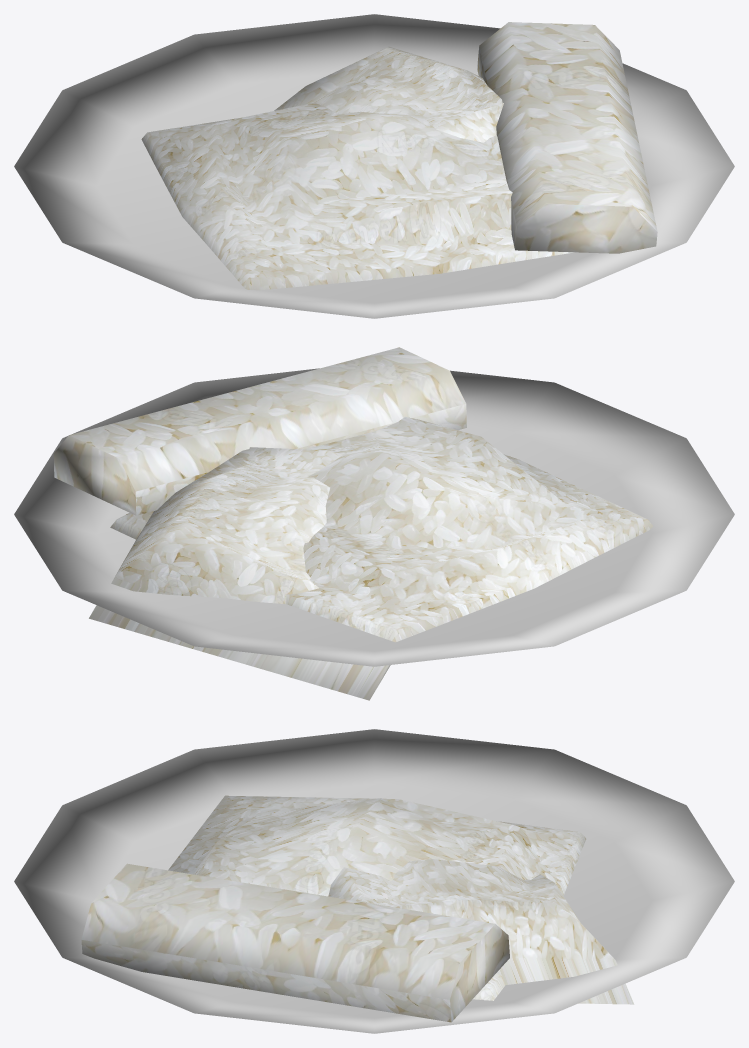
The model's file is SM_PlateFood.fbx.
3 renders of one model, top to bottom at view 1: azimuth 30°, elevation 25°; view 2: azimuth 150°, elevation 25°; view 3: azimuth 270°, elevation 25°, orthographic.
Visible parts, largest first — view 1: plate, FoodClump_Rice, FoodClump_Meat, FoodClump_Beans; view 2: plate, FoodClump_Rice, FoodClump_Meat, FoodClump_Beans; view 3: plate, FoodClump_Meat, FoodClump_Rice, FoodClump_Beans.
Boxes of the visible parts, <box> form: plate: <box>14,14,734,318</box>; FoodClump_Rice: <box>141,102,574,290</box>; FoodClump_Meat: <box>477,22,657,253</box>; FoodClump_Beans: <box>274,46,503,142</box>; plate: <box>14,368,734,666</box>; FoodClump_Rice: <box>110,417,653,642</box>; FoodClump_Meat: <box>53,347,466,515</box>; FoodClump_Beans: <box>89,447,390,700</box>; plate: <box>14,729,734,1033</box>; FoodClump_Meat: <box>81,863,509,1022</box>; FoodClump_Rice: <box>168,795,586,1000</box>; FoodClump_Beans: <box>328,859,634,1004</box>.
Size of the model in its own units: 18 by 18 by 4.11.
